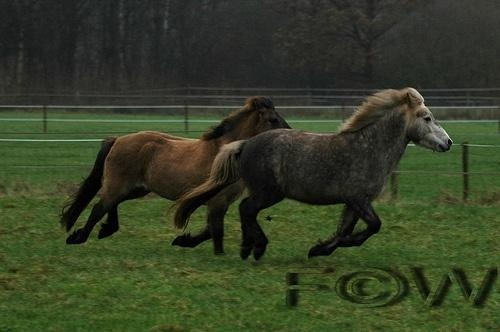horse: (171, 87, 454, 262), (61, 96, 295, 245)
